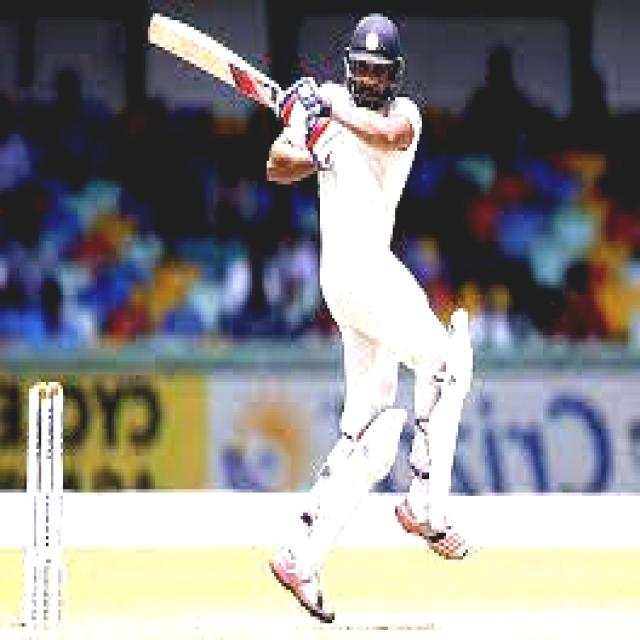toe: (147, 2, 172, 52)
